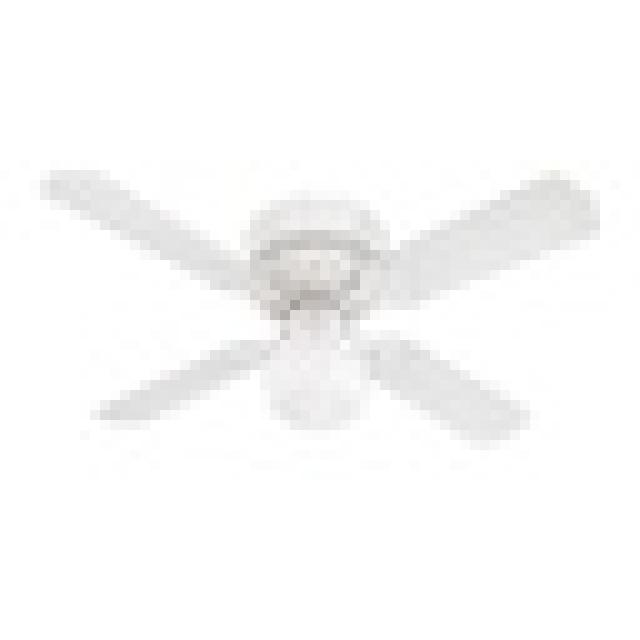Bulb: (39, 139, 636, 535)
